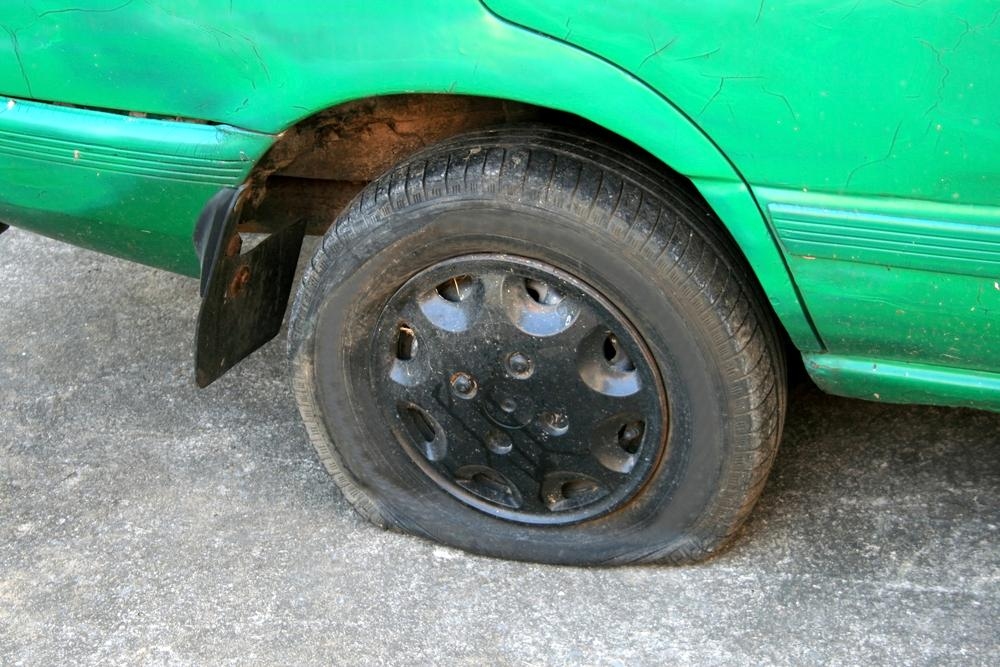tire flat: (289, 122, 786, 567)
